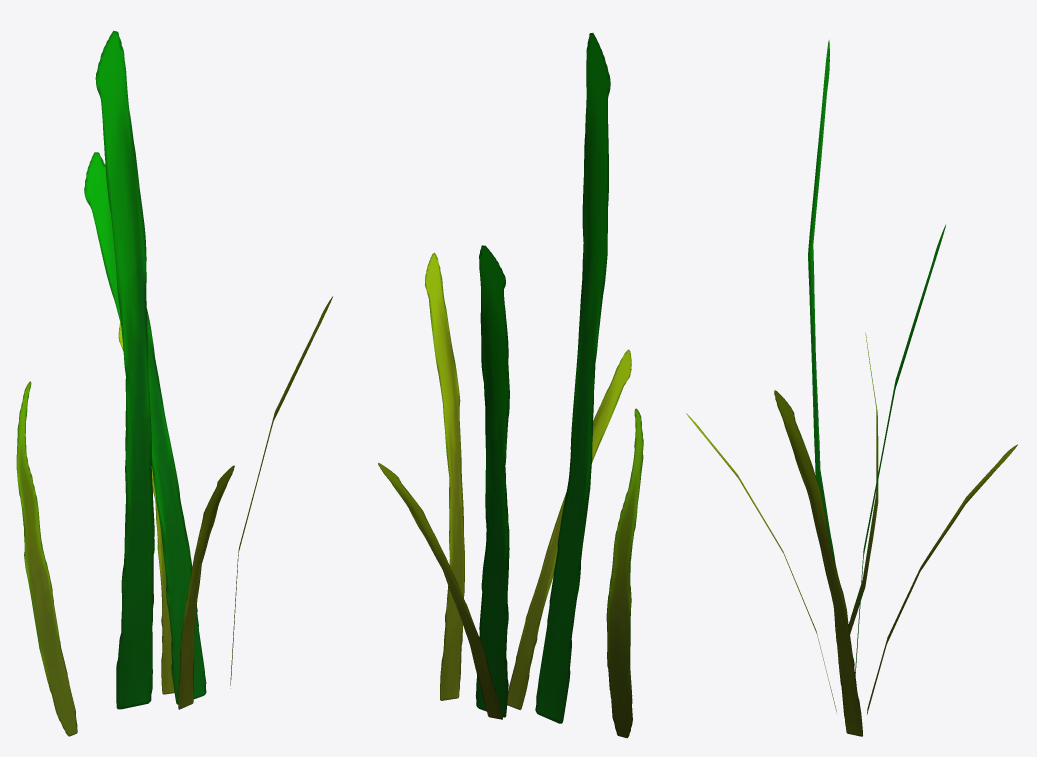
Rendered from 20_Arbustitos.fbx.
3 views of the same model, side by side, from view 1: azimuth 30°, elevation 25°; view 2: azimuth 150°, elevation 25°; view 3: azimuth 270°, elevation 25° (orthographic). The views are drawn at different scales.
Parts seen in each view (by area): view 1: Follage.087; view 2: Follage.087; view 3: Follage.087.
Boxes of the visible parts, x1=… form: Follage.087: x1=16, y1=30, x2=332, y2=736; Follage.087: x1=378, y1=33, x2=643, y2=737; Follage.087: x1=686, y1=40, x2=1017, y2=736.
Size of the model in its own units: 28.82 by 69.72 by 32.82.
